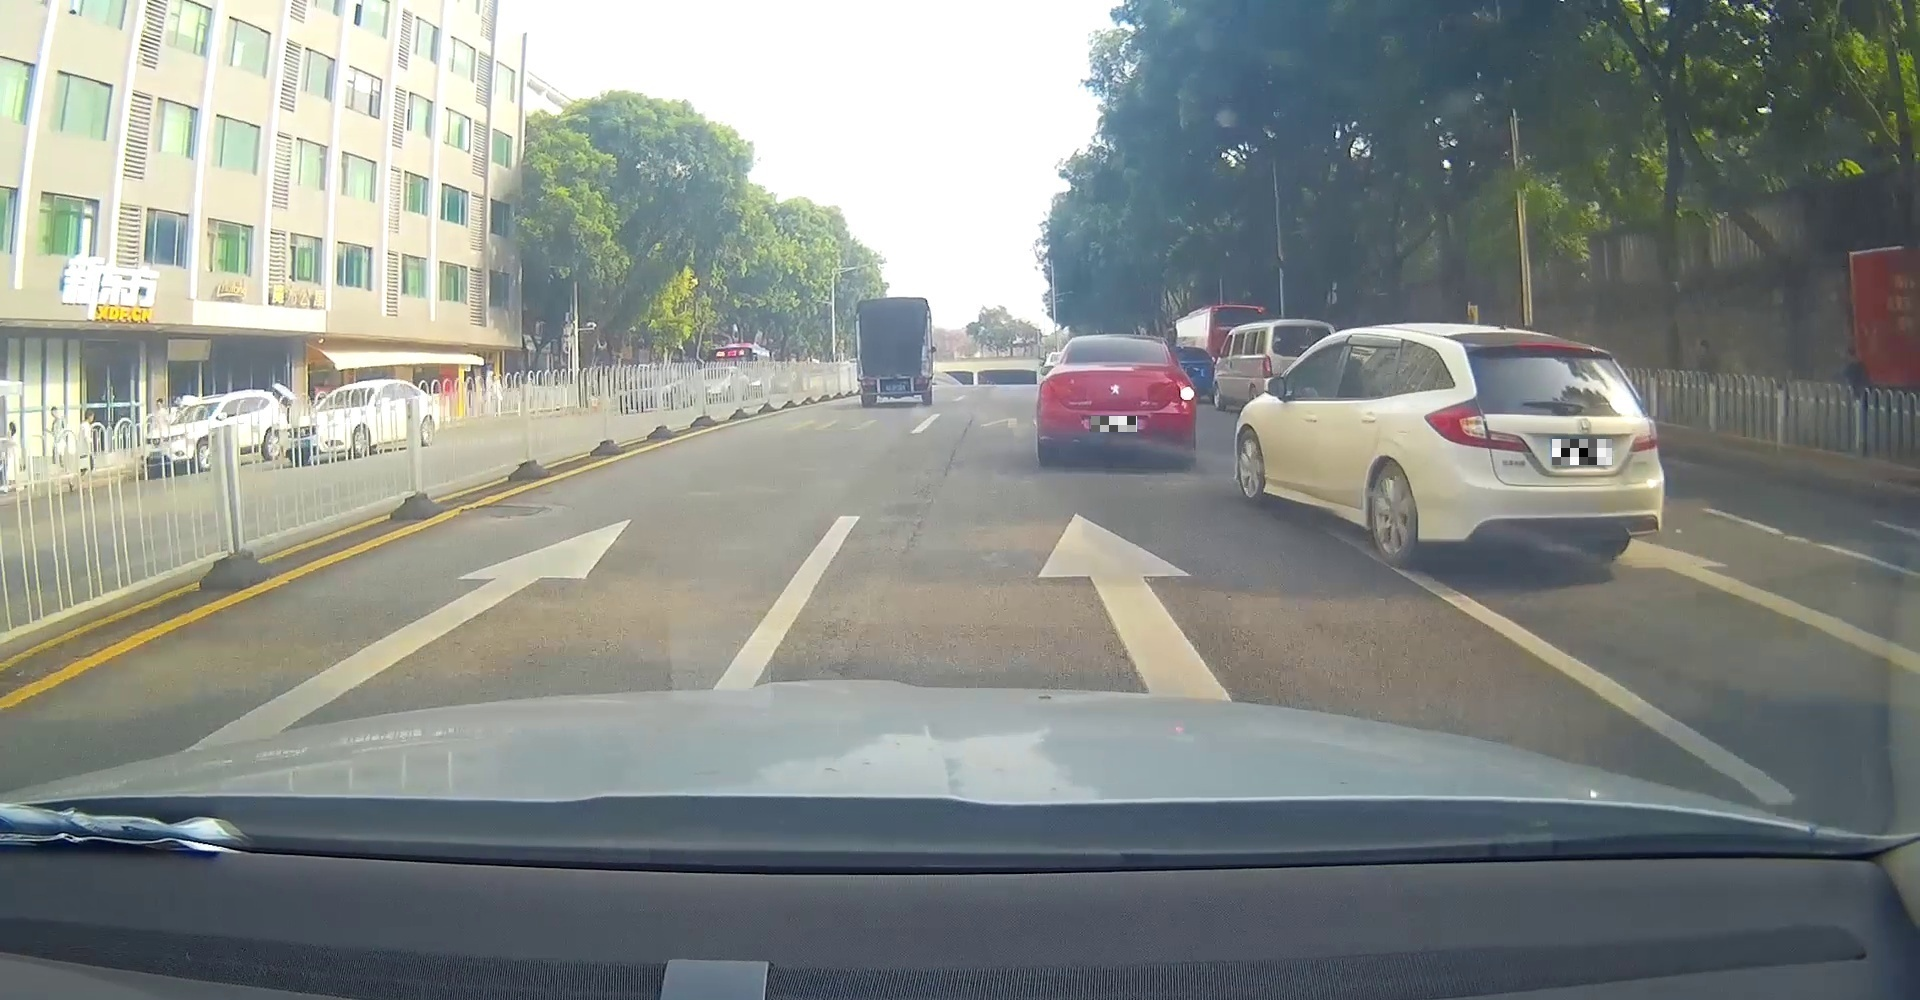L_light: (1423, 397, 1530, 453), (1040, 382, 1057, 400), (861, 379, 874, 385)
R_light: (1629, 418, 1658, 453), (1178, 385, 1195, 401), (916, 378, 928, 385)
T_light: (1519, 341, 1583, 354), (1110, 338, 1126, 343), (888, 374, 900, 377)
day-no: (1418, 325, 1665, 572), (855, 297, 933, 407)
day-right: (1037, 332, 1197, 467)
plate_1: (1091, 416, 1137, 431)
plate_2: (1552, 439, 1611, 464)
